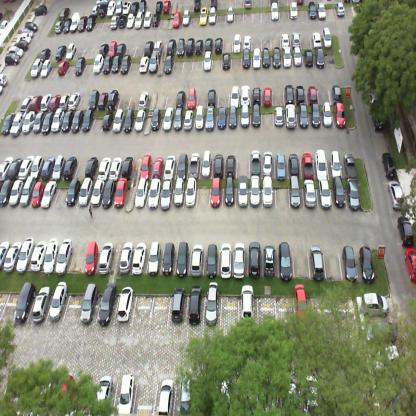car: (370, 344, 400, 374), (94, 374, 115, 415), (360, 287, 389, 316), (56, 373, 77, 413), (80, 287, 102, 325), (28, 288, 51, 324), (46, 290, 69, 326), (364, 320, 400, 343), (386, 386, 413, 416), (303, 368, 320, 415), (96, 288, 118, 324), (117, 372, 134, 416), (15, 237, 34, 276), (354, 240, 374, 277), (114, 289, 136, 322), (157, 376, 175, 416), (168, 291, 189, 325), (13, 289, 36, 320), (145, 240, 165, 275), (179, 370, 194, 416), (202, 293, 221, 329), (41, 239, 60, 273), (293, 280, 308, 322), (239, 283, 254, 325), (76, 176, 94, 210), (144, 177, 162, 211), (4, 240, 22, 274), (53, 241, 72, 273), (386, 179, 406, 209), (187, 292, 204, 327), (82, 240, 100, 273), (397, 214, 415, 247), (340, 241, 356, 278), (88, 174, 105, 208), (278, 244, 295, 278), (310, 242, 326, 278), (160, 241, 177, 274), (174, 243, 191, 276), (19, 174, 36, 207), (380, 149, 398, 180), (203, 241, 218, 278), (285, 371, 299, 410), (170, 176, 186, 210), (188, 242, 204, 276), (263, 243, 279, 277), (344, 176, 362, 206), (234, 241, 249, 277), (65, 176, 81, 209), (113, 177, 129, 210), (156, 178, 172, 211), (132, 240, 148, 273), (217, 242, 233, 275), (100, 178, 116, 210), (96, 244, 113, 274), (248, 240, 263, 274), (316, 177, 332, 208), (30, 240, 46, 271), (40, 181, 57, 210), (314, 148, 330, 178), (118, 242, 134, 272), (220, 373, 232, 412), (8, 179, 24, 208), (133, 177, 146, 212), (341, 149, 357, 177), (84, 153, 101, 179), (330, 179, 345, 208), (0, 177, 14, 208), (288, 180, 304, 207), (404, 248, 416, 284), (18, 153, 34, 180), (122, 106, 137, 134), (288, 147, 302, 177), (301, 148, 315, 178), (235, 179, 249, 209), (262, 178, 276, 208), (30, 180, 45, 208), (96, 154, 112, 180), (0, 110, 16, 136), (328, 148, 342, 177), (209, 180, 223, 209), (276, 148, 289, 179), (304, 178, 317, 209), (122, 155, 138, 180), (101, 107, 115, 135), (112, 107, 126, 135), (332, 101, 347, 127), (186, 152, 201, 178), (63, 154, 78, 180), (109, 155, 125, 179), (248, 150, 262, 177), (52, 154, 66, 181), (0, 237, 11, 271), (184, 179, 196, 210), (6, 156, 22, 179), (133, 108, 147, 134), (149, 154, 163, 180), (10, 110, 24, 136), (138, 155, 153, 179), (263, 147, 275, 177), (249, 179, 261, 209), (150, 106, 163, 133), (71, 106, 84, 133), (164, 152, 178, 177), (199, 152, 213, 177), (210, 152, 224, 177), (50, 107, 64, 132), (224, 179, 236, 208), (40, 110, 55, 133), (0, 154, 13, 180), (174, 153, 188, 177), (224, 150, 236, 178), (41, 156, 55, 180), (194, 107, 206, 133), (82, 108, 94, 134), (22, 110, 35, 134), (30, 154, 44, 176), (162, 107, 174, 132), (238, 105, 250, 130), (88, 87, 100, 111), (33, 110, 45, 134), (311, 102, 322, 128), (321, 104, 334, 126), (68, 90, 82, 110), (274, 105, 286, 128), (298, 105, 310, 128), (107, 88, 119, 111), (61, 109, 74, 130), (184, 106, 194, 133), (216, 107, 227, 131), (148, 52, 160, 74), (120, 53, 132, 75), (92, 53, 104, 75), (174, 108, 184, 134), (75, 55, 87, 76), (40, 57, 52, 78), (30, 57, 42, 78), (252, 105, 262, 130), (205, 108, 216, 130), (228, 106, 239, 128), (55, 42, 67, 62), (68, 12, 80, 32), (20, 92, 33, 110), (286, 105, 297, 126), (240, 82, 250, 105), (232, 32, 242, 55), (252, 46, 261, 71), (5, 52, 20, 67), (284, 82, 294, 104), (252, 83, 262, 105), (230, 86, 240, 108), (202, 52, 213, 72), (102, 53, 112, 75), (322, 26, 332, 48), (198, 5, 208, 27), (188, 87, 197, 111), (49, 92, 61, 110), (75, 16, 87, 34), (185, 35, 195, 56), (270, 1, 280, 22), (40, 92, 51, 111), (311, 30, 322, 49), (262, 44, 270, 70), (57, 60, 70, 76), (137, 91, 149, 108), (295, 84, 305, 104), (31, 92, 41, 112), (139, 54, 149, 74), (111, 54, 121, 74), (166, 36, 176, 56), (65, 41, 75, 61), (332, 84, 343, 102), (59, 91, 70, 109), (176, 36, 185, 58), (335, 0, 346, 18), (15, 38, 29, 52), (8, 44, 24, 56), (98, 90, 108, 109), (163, 56, 173, 75), (208, 6, 218, 25), (86, 12, 96, 31), (293, 44, 301, 67), (272, 45, 280, 68), (34, 3, 47, 17), (207, 88, 216, 108), (176, 89, 186, 107), (242, 33, 252, 51), (144, 39, 154, 57), (116, 40, 126, 58), (108, 39, 118, 57), (317, 2, 327, 20), (308, 1, 317, 21), (289, 1, 298, 21), (264, 86, 272, 108), (316, 45, 324, 67), (153, 39, 164, 55), (221, 51, 230, 70), (172, 10, 181, 29), (291, 31, 301, 48), (109, 12, 119, 29), (304, 46, 312, 67), (18, 32, 32, 44), (122, 0, 133, 15), (308, 84, 317, 102), (214, 37, 223, 55), (194, 38, 203, 56), (126, 12, 135, 30), (135, 10, 143, 30), (60, 6, 70, 22), (40, 47, 52, 60), (21, 27, 34, 39), (25, 20, 38, 32), (283, 46, 290, 68), (281, 30, 290, 47), (204, 36, 213, 53), (144, 9, 152, 28), (182, 10, 191, 26), (106, 0, 115, 16), (62, 18, 71, 34), (242, 49, 249, 69), (150, 12, 160, 26), (96, 3, 106, 17), (118, 14, 128, 28), (162, 0, 171, 15), (154, 0, 163, 15), (129, 1, 139, 14), (227, 6, 234, 24), (100, 41, 108, 56), (54, 19, 62, 34), (114, 0, 123, 13), (0, 74, 9, 87), (193, 0, 202, 12), (138, 0, 147, 12), (244, 0, 253, 11), (90, 6, 100, 15), (211, 0, 218, 7)
